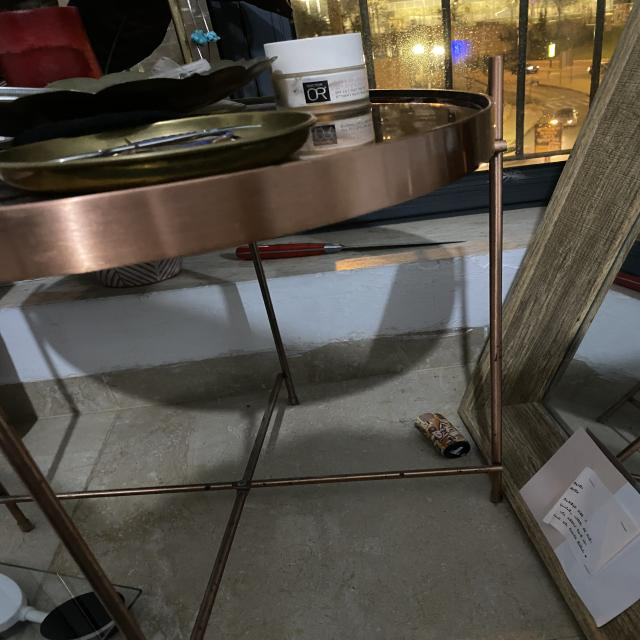Hammer: (224, 198, 468, 282)
